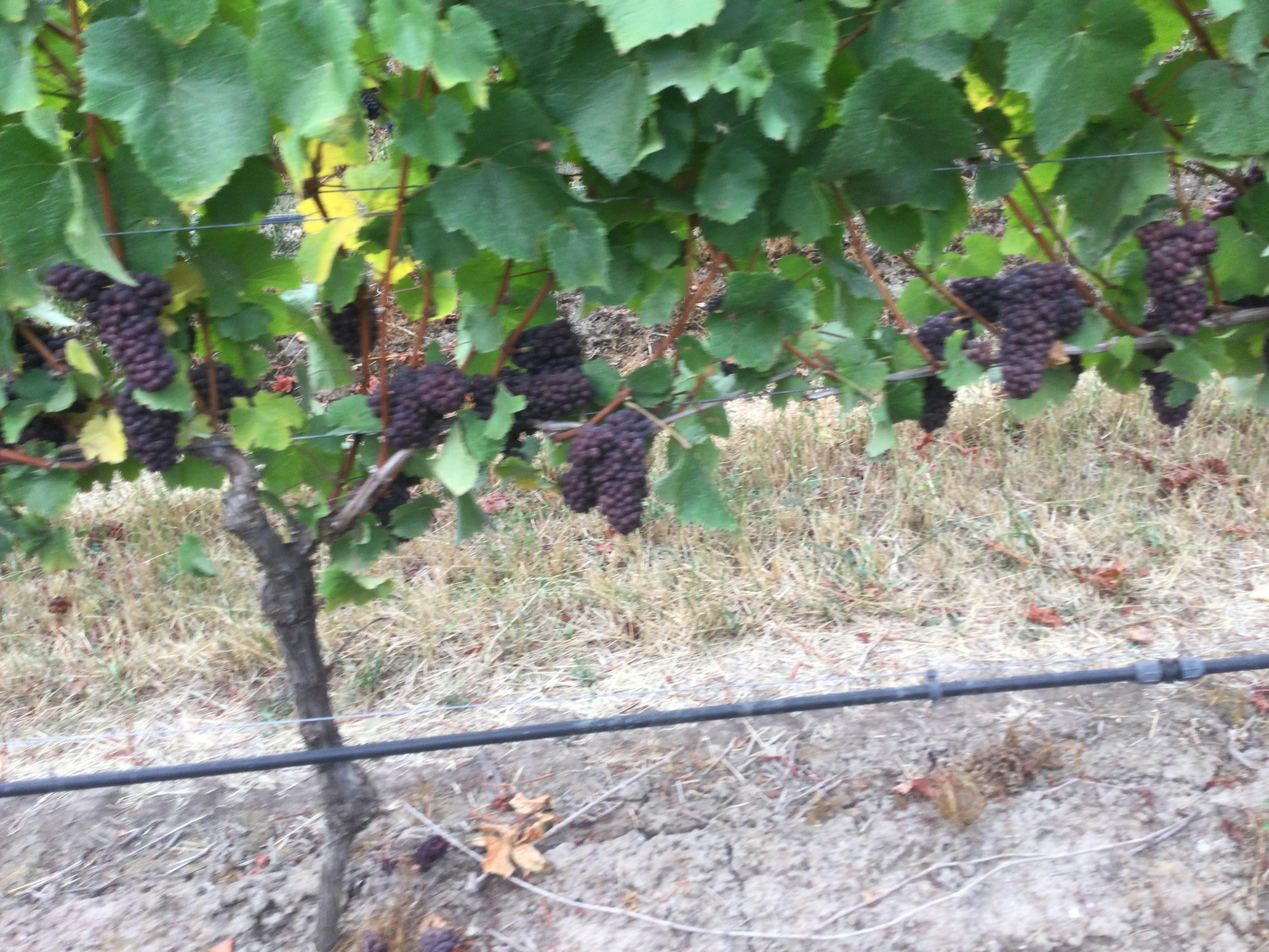leaf: (81, 17, 267, 200), (1006, 0, 1152, 151), (823, 59, 976, 190), (545, 24, 653, 181), (250, 0, 359, 135), (429, 159, 570, 260), (1055, 123, 1168, 242), (0, 124, 72, 269), (706, 273, 814, 369), (1180, 56, 1268, 154), (654, 441, 738, 529), (586, 0, 724, 53), (757, 40, 823, 149), (696, 136, 769, 224), (431, 5, 498, 89), (394, 94, 470, 166), (546, 207, 610, 289), (369, 0, 437, 69), (0, 4, 42, 112), (229, 392, 306, 450), (901, 0, 1002, 42), (780, 169, 832, 243), (431, 421, 478, 495), (318, 563, 392, 610), (145, 0, 217, 44), (77, 410, 127, 462), (390, 493, 442, 537), (178, 532, 218, 578)
